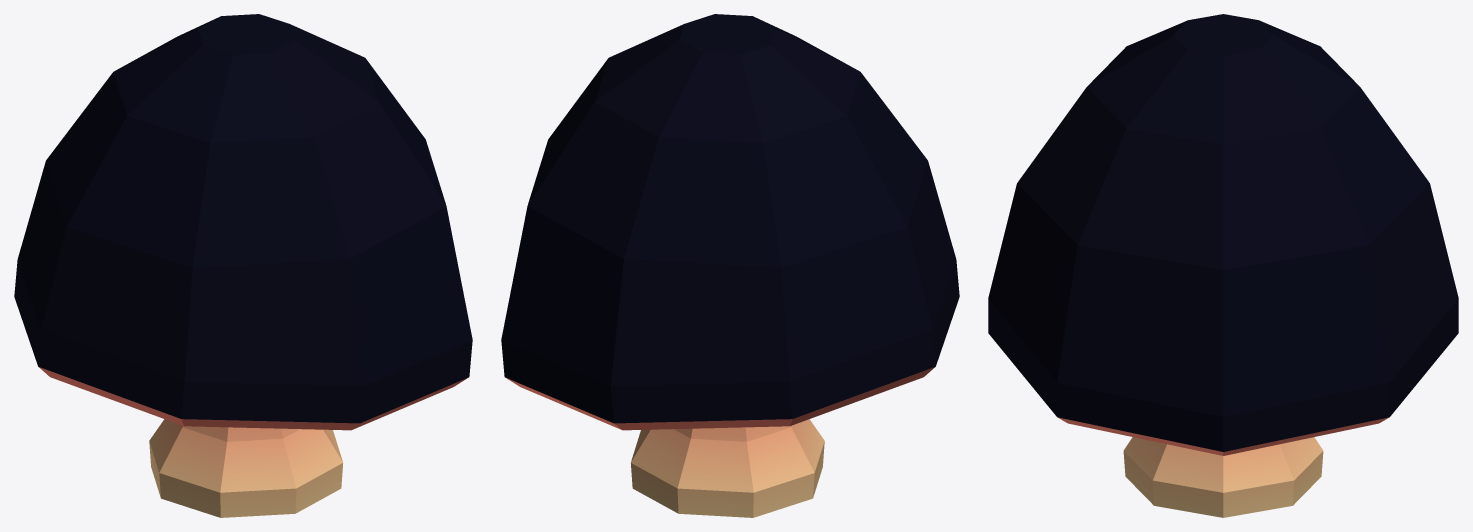
The model's file is Garden_CapShroom01.fbx.
The picture shows the model from 3 angles, left to right: view 1: azimuth 30°, elevation 25°; view 2: azimuth 150°, elevation 25°; view 3: azimuth 270°, elevation 25°; orthographic projection.
Visible parts, largest first — view 1: Cylinder.312; view 2: Cylinder.312; view 3: Cylinder.312.
Boxes of the visible parts, x1,y1,x2,y2 form: Cylinder.312: (14,14,472,517); Cylinder.312: (501,14,959,517); Cylinder.312: (988,14,1458,517).
Bounding box in the file's own units: 78.72 × 82.73 × 78.44.
